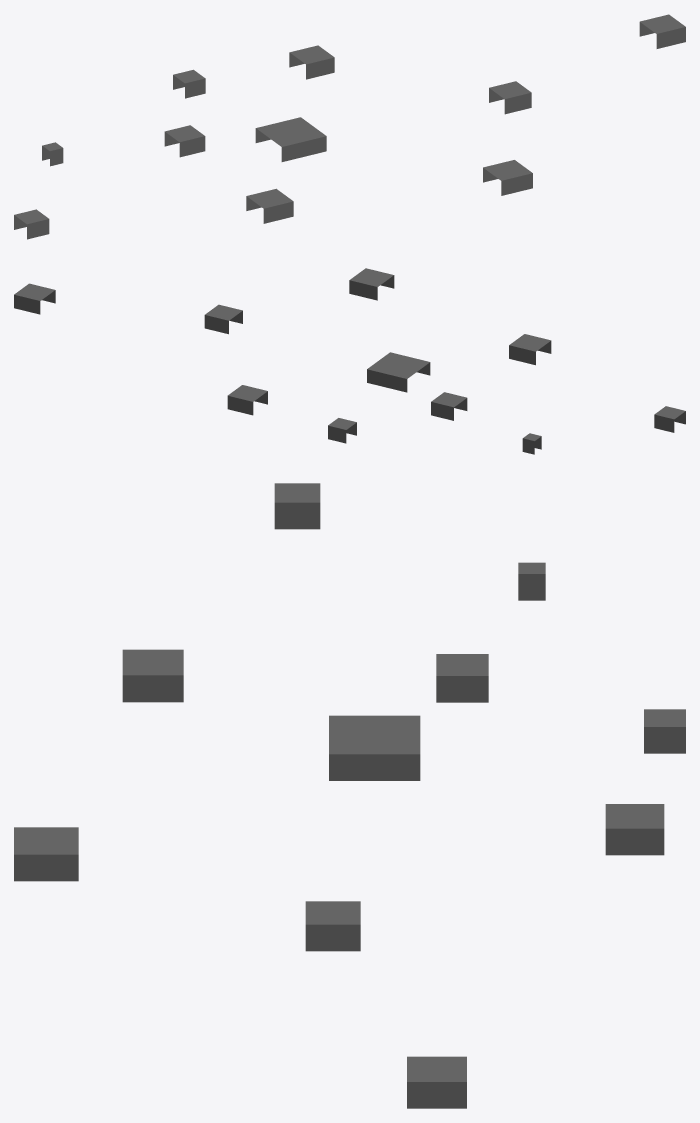
Rendered from RockOnRoad.fbx.
3 views of the same model, one above another, from view 1: azimuth 30°, elevation 25°; view 2: azimuth 150°, elevation 25°; view 3: azimuth 270°, elevation 25° (orthographic). The views are drawn at different scales.
Parts seen in each view (by area): view 1: Cube.009; view 2: Cube.009; view 3: Cube.009.
Boxes of the visible parts, left/top/right/bottom form: Cube.009: left=14, top=14, right=685, bottom=239; Cube.009: left=14, top=268, right=685, bottom=454; Cube.009: left=14, top=483, right=685, bottom=1108.
Size of the model in its own units: 413 by 8.6 by 196.
1 material, 1 textured.
